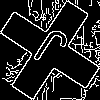J: (25, 25, 72, 78)
